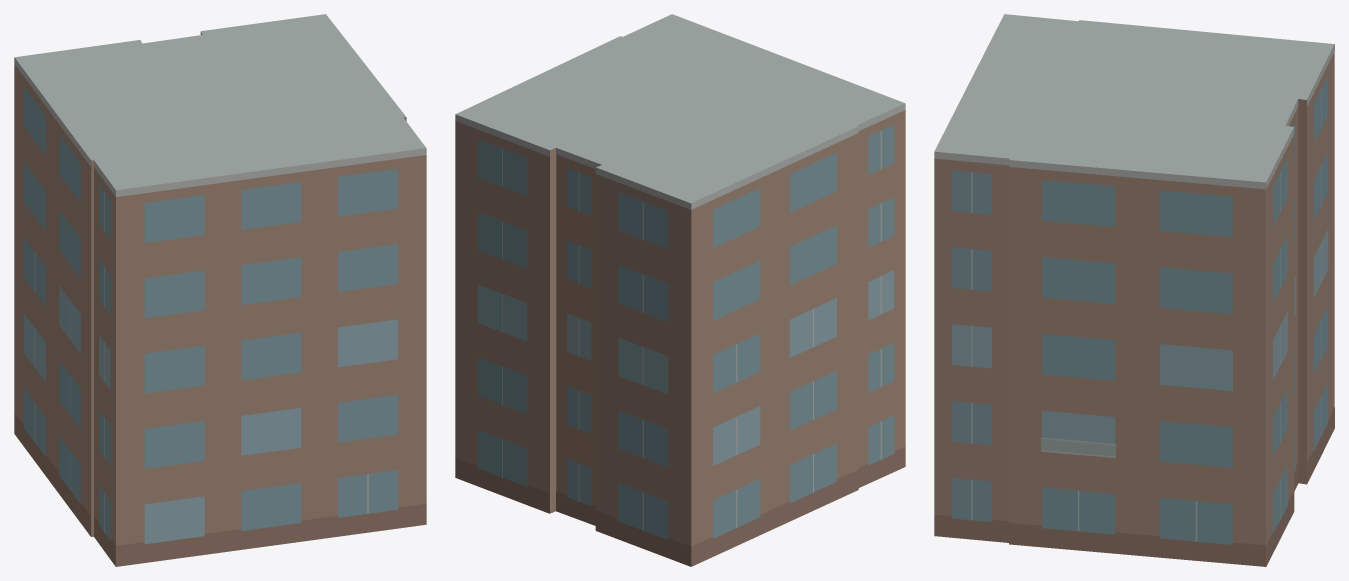
File: survey-upis-32929054.glb
The picture shows the model from 3 angles, left to right: view 1: azimuth 30°, elevation 25°; view 2: azimuth 150°, elevation 25°; view 3: azimuth 270°, elevation 25°; orthographic projection. The views are drawn at different scales.
Parts seen in each view (by area): view 1: survey-upis-32929054.tmp; view 2: survey-upis-32929054.tmp; view 3: survey-upis-32929054.tmp.
Boxes of the visible parts, bbox=[...] form: survey-upis-32929054.tmp: bbox=[14, 14, 426, 566]; survey-upis-32929054.tmp: bbox=[455, 14, 905, 566]; survey-upis-32929054.tmp: bbox=[934, 14, 1334, 566].
Size of the model in its own units: 12.8 by 13.6 by 12.86.
